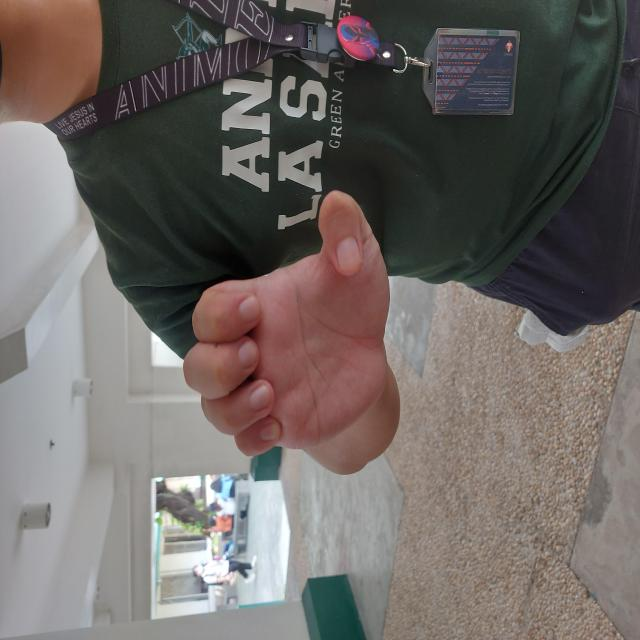E: (181, 181, 452, 392)
